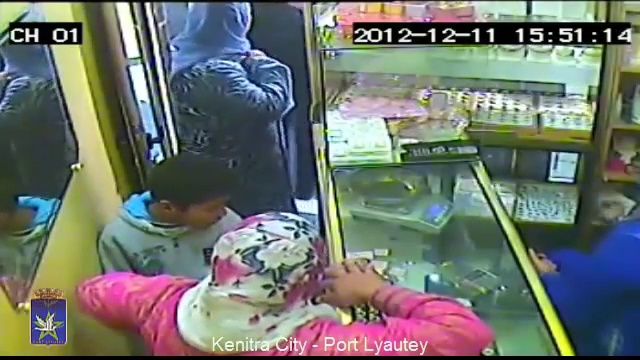face: (173, 190, 228, 228)
